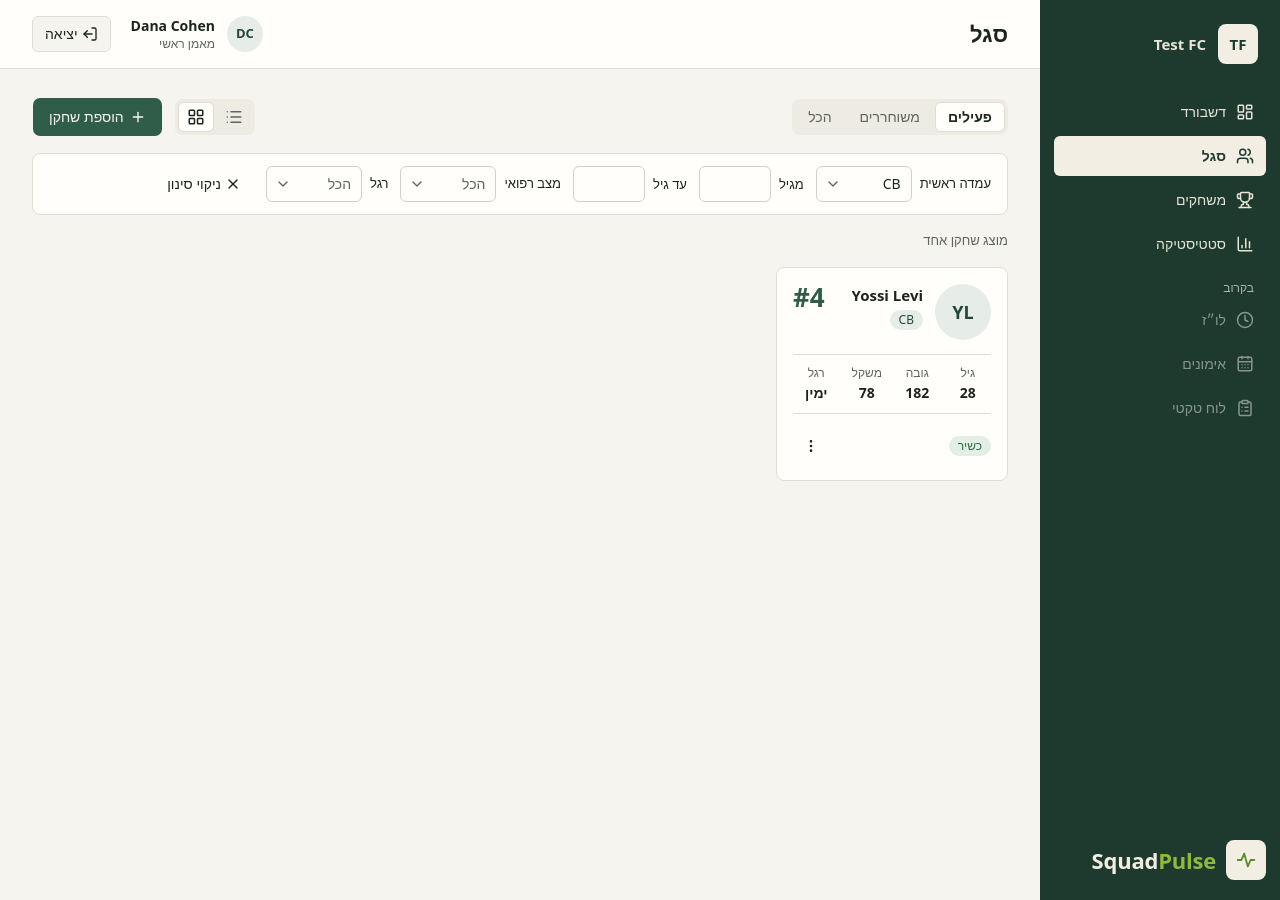
Test: 'חזרה לסגל' from the player card › returns to the normalized URL after a visit to a non-normalized one, never the raw query
expect the element named "סטטוס שחקנים" is shown: met, box [792,99,1008,135]
expect the list "YL Yossi Levi CB #4 גיל 28 גובה 182 משקל 78 רגל ימין כשיר" is shown: met, box [776,266,1008,480]
Click the link "Yossi Levi". click: click(887, 295)
box: [852,284,923,306]
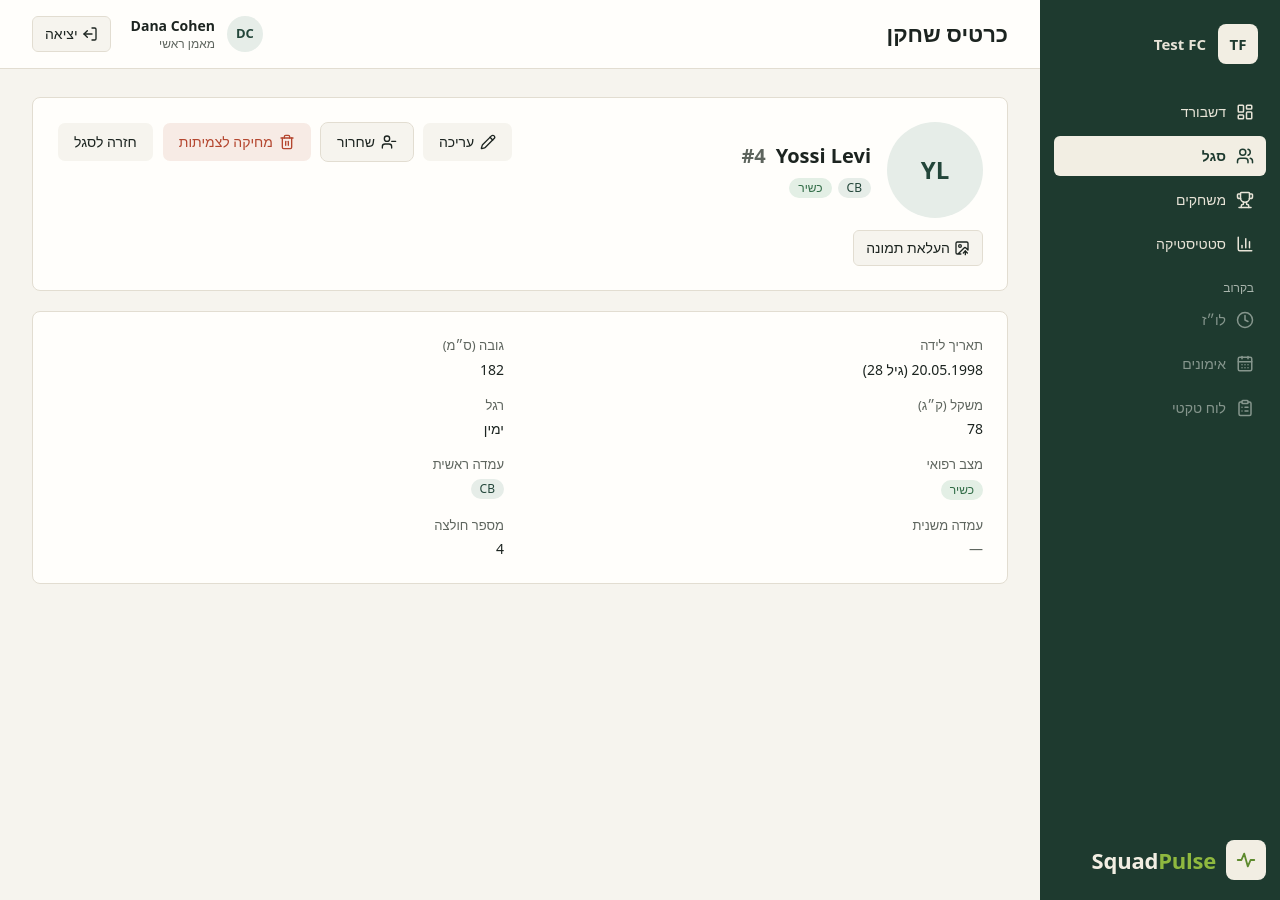
Click the link "חזרה לסגל". click: click(105, 142)
box: [57,122,154,162]
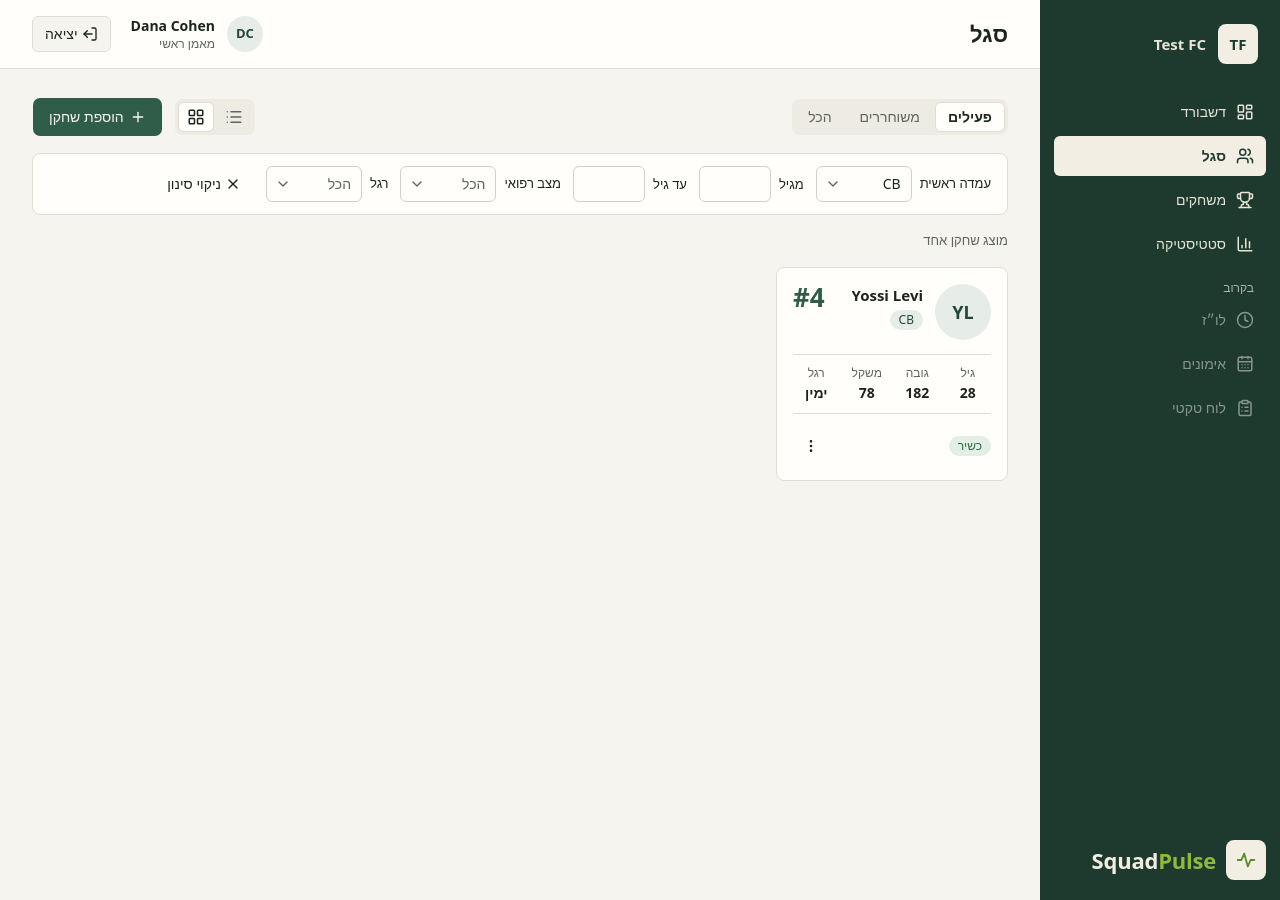
expect the element named "סטטוס שחקנים" is shown: met, box [792,99,1008,135]
expect the list "YL Yossi Levi CB #4 גיל 28 גובה 182 משקל 78 רגל ימין כשיר" is shown: met, box [776,266,1008,480]
